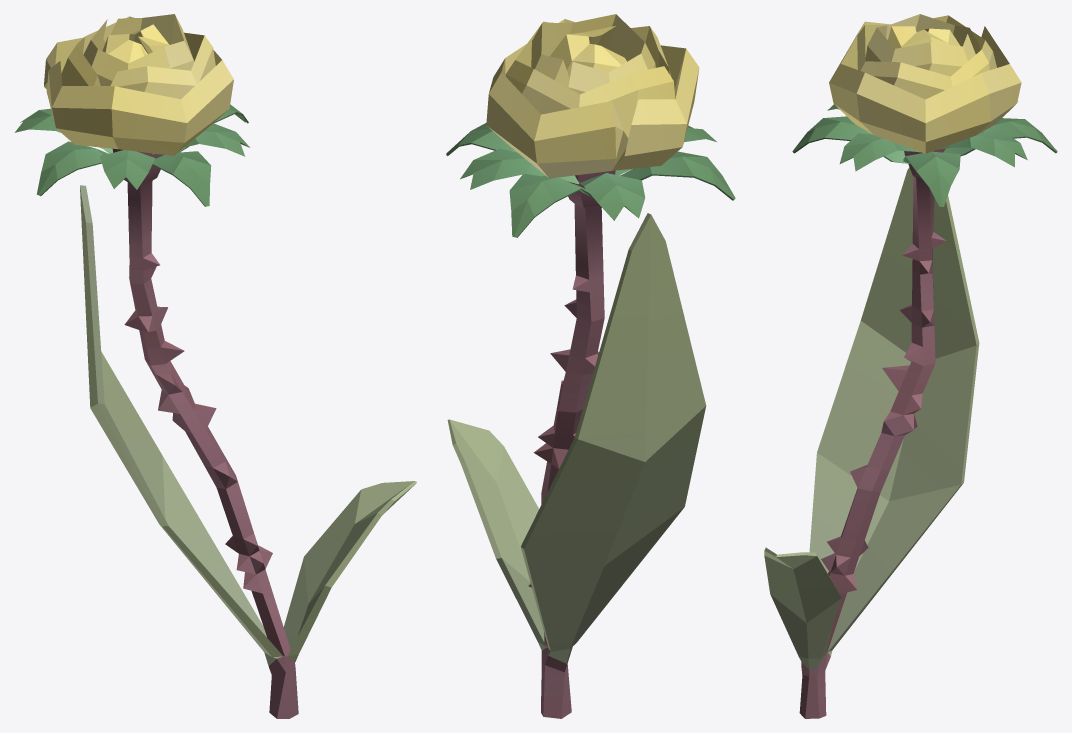
File: Rose_Yellow.fbx
3 renders of one model, left to right at view 1: azimuth 30°, elevation 25°; view 2: azimuth 150°, elevation 25°; view 3: azimuth 270°, elevation 25°, orthographic. The views are drawn at different scales.
Parts seen in each view (by area): view 1: Rose_Yellow; view 2: Rose_Yellow; view 3: Rose_Yellow.
Part boxes in pixels (bbox=[...]): Rose_Yellow: bbox=[14, 14, 416, 718]; Rose_Yellow: bbox=[446, 14, 735, 718]; Rose_Yellow: bbox=[764, 14, 1057, 718].
Bounding box in the file's own units: 25.08 × 50.38 × 20.65.
